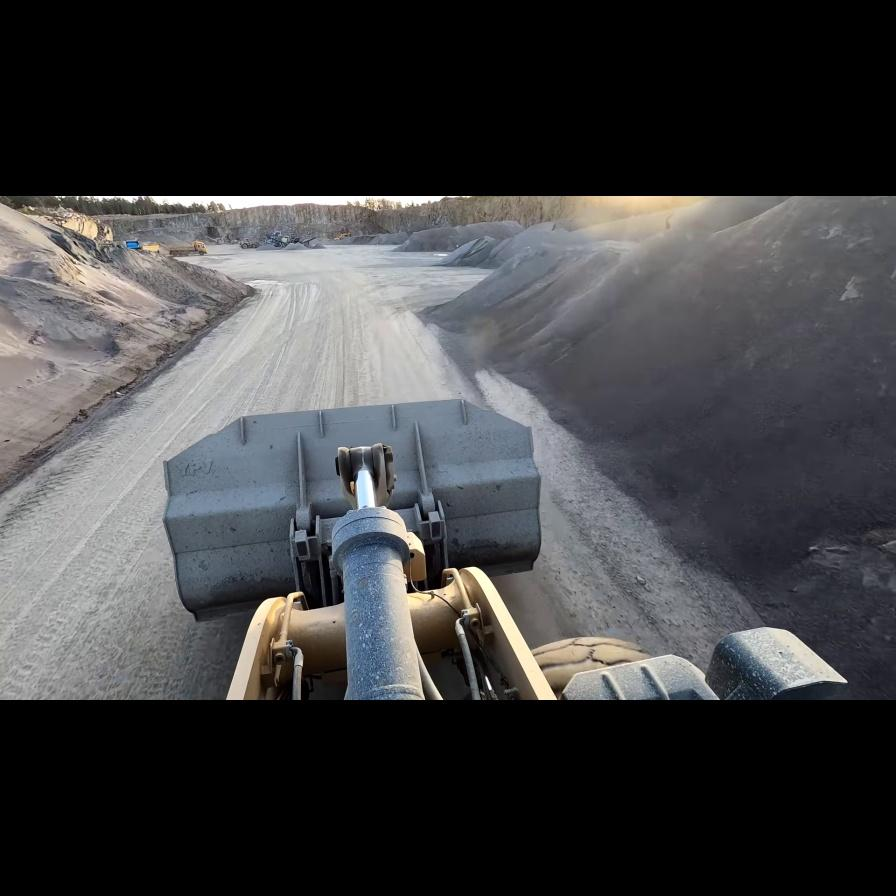anchor: (335, 444, 394, 510)
pile of gravel: (411, 195, 896, 702), (0, 197, 256, 510), (397, 220, 521, 255), (360, 231, 409, 247), (294, 236, 325, 248)
